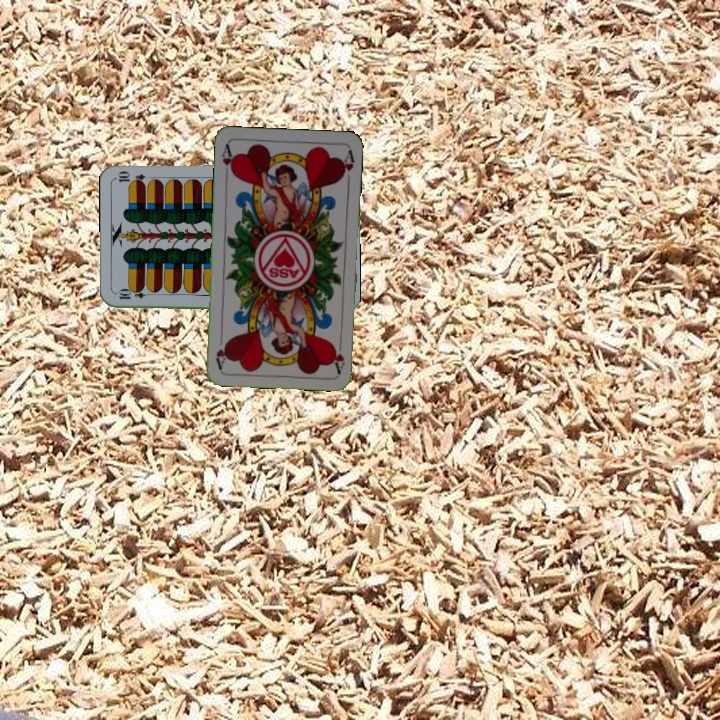E10: (115, 288, 155, 302)
HA: (217, 141, 237, 181), (329, 335, 347, 375)
